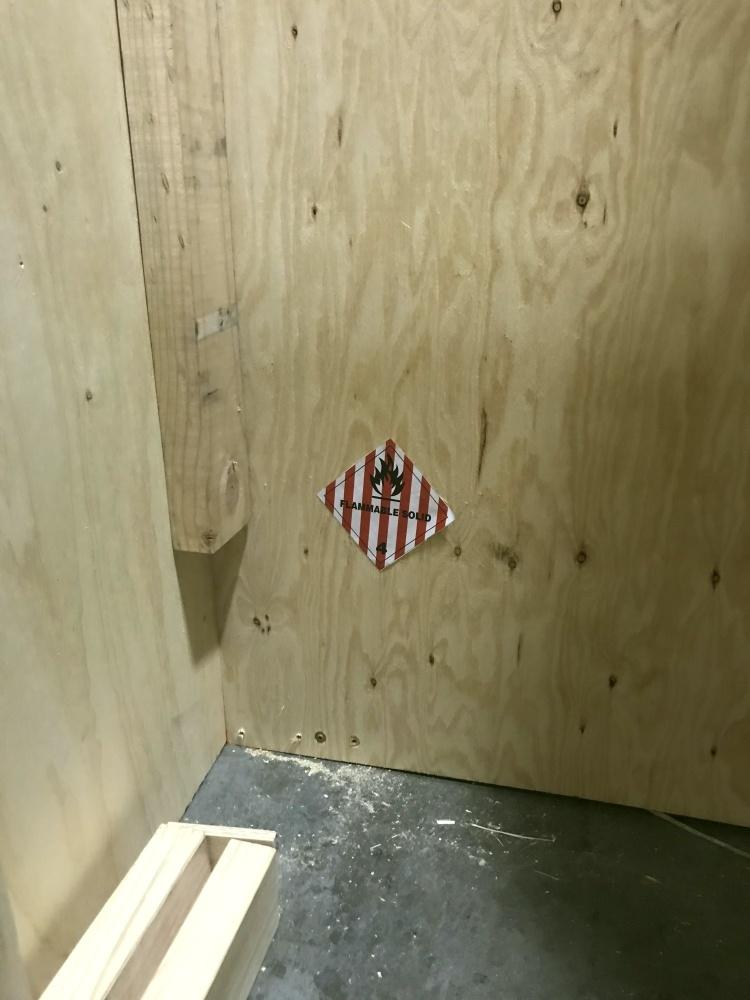flammable-solid: (317, 436, 456, 568)
